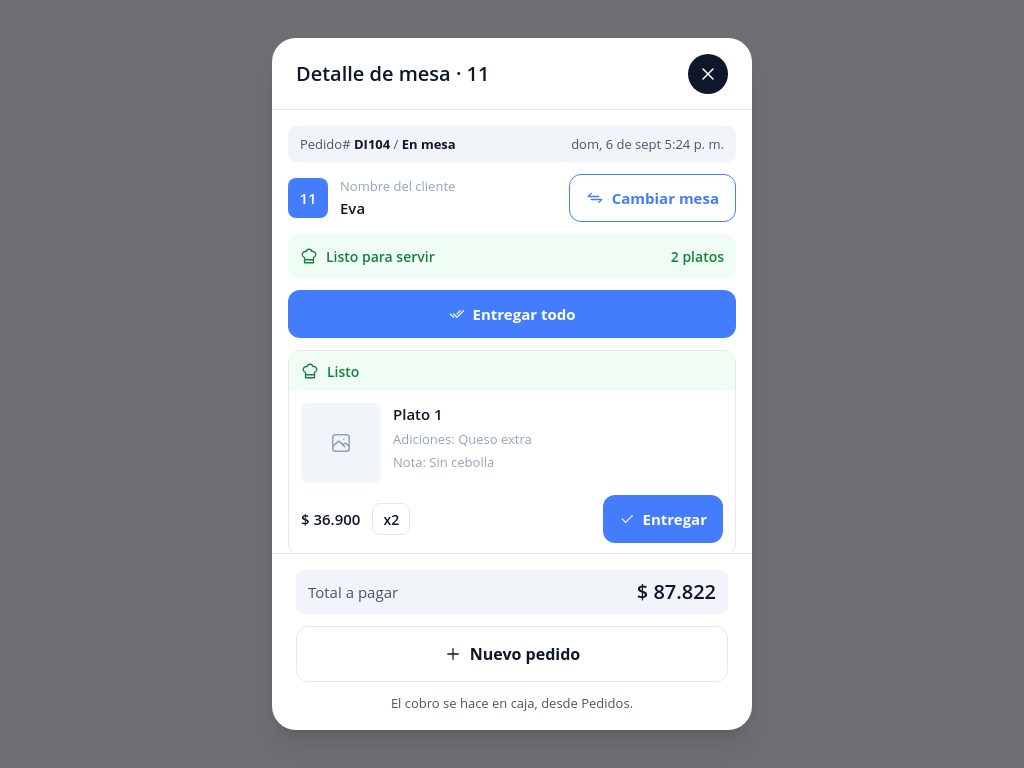
Scenario: delivers all ready dishes from the detail and immediately refreshes their status
This screenshot has width=1024, height=768.
Step 1. Click the button "Entregar todo" → (512, 314), box [288,290,736,338]
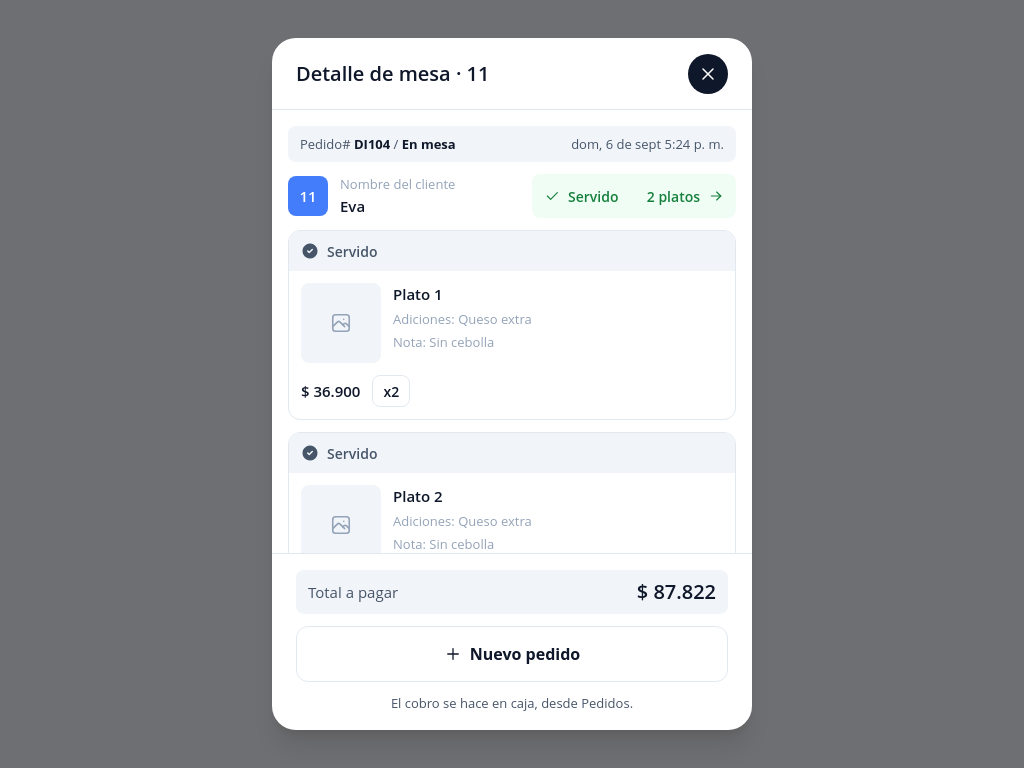
Now the button "Entregar todo" is gone
